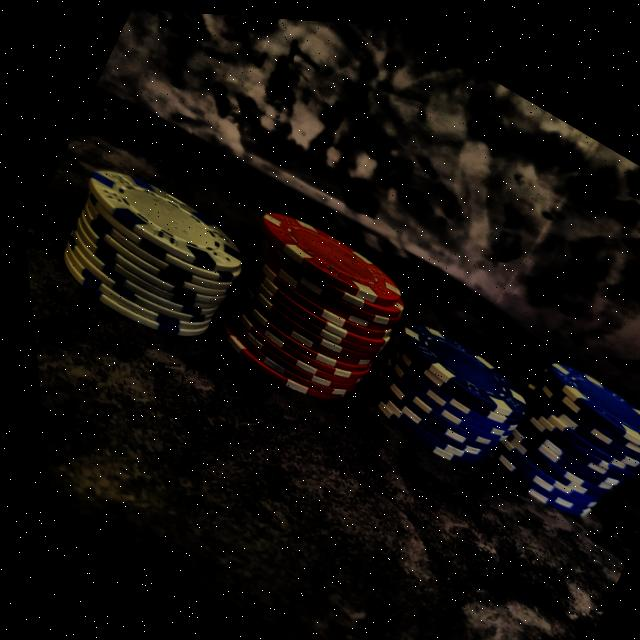Chip: (174, 164, 435, 435), (23, 127, 279, 377), (462, 326, 640, 558), (342, 293, 547, 488)
